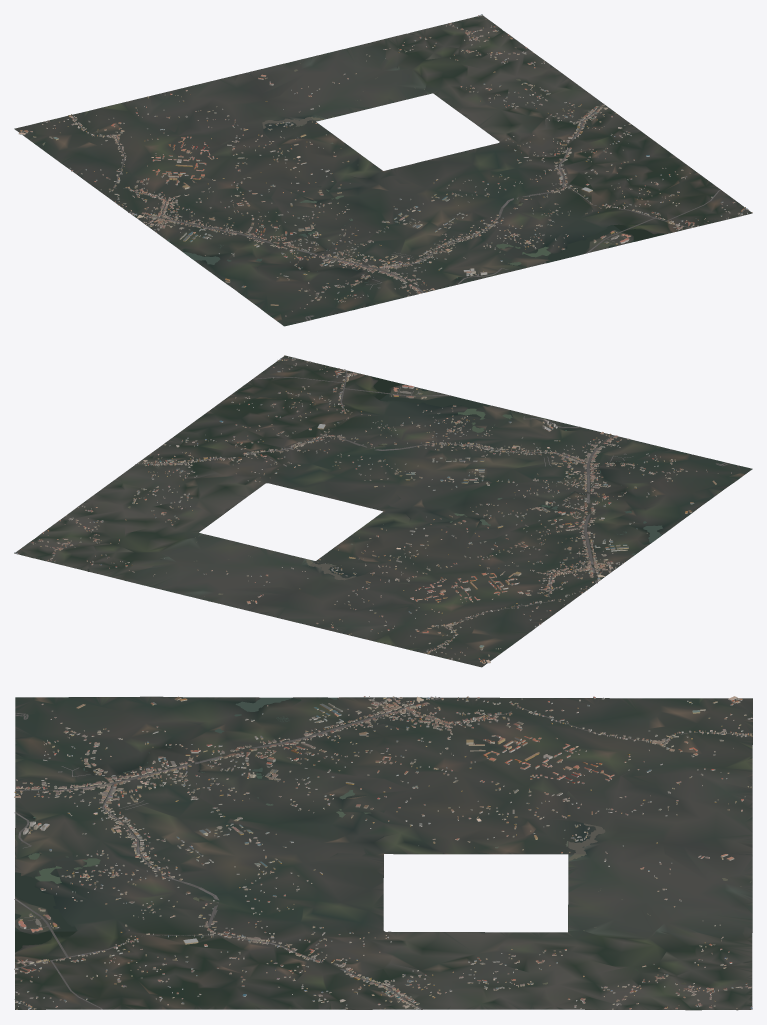
3 views of the same model, one above another, from view 1: azimuth 30°, elevation 25°; view 2: azimuth 150°, elevation 25°; view 3: azimuth 270°, elevation 25° (orthographic). The views are drawn at different scales.
Visible parts, largest first — view 1: ground, buildings, water, roads; view 2: ground, buildings, water, roads; view 3: ground, buildings, water, roads.
Boxes of the visible parts, box(x1,y1,x2,y2) form: ground: box(14, 15, 752, 326); buildings: box(18, 14, 752, 316); water: box(167, 21, 665, 307); roads: box(71, 103, 746, 320); ground: box(15, 355, 752, 667); buildings: box(14, 355, 731, 663); water: box(29, 376, 684, 600); roads: box(135, 359, 728, 653); ground: box(15, 696, 752, 1010); buildings: box(14, 696, 752, 1009); water: box(15, 697, 751, 984); roads: box(14, 697, 750, 1009).
Bounding box in the file's own units: 5629 × 43.98 × 5619.
